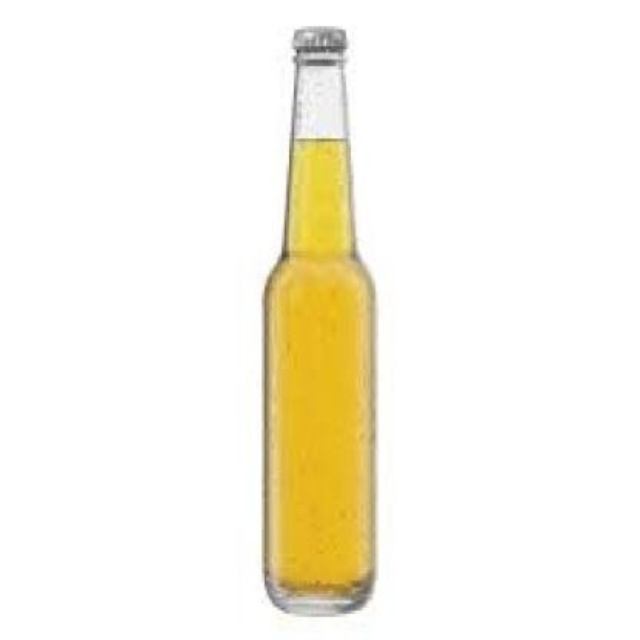trash: (265, 26, 374, 614)
